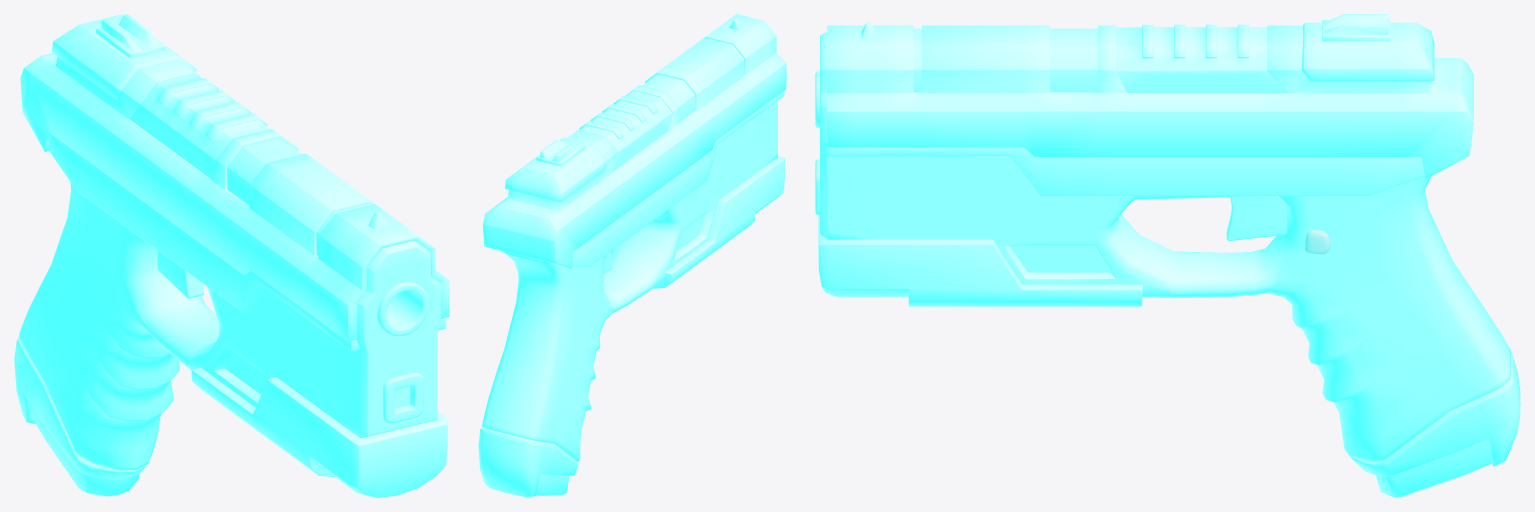
File: scifipistol02-1.glb
The picture shows the model from 3 angles, left to right: view 1: azimuth 30°, elevation 25°; view 2: azimuth 150°, elevation 25°; view 3: azimuth 270°, elevation 25°; orthographic projection. The views are drawn at different scales.
Parts seen in each view (by area): view 1: SciFiPistol02_1; view 2: SciFiPistol02_1; view 3: SciFiPistol02_1.
Boxes of the visible parts, box(x1,y1,x2,y2) form: SciFiPistol02_1: box(14, 14, 449, 497); SciFiPistol02_1: box(478, 14, 786, 497); SciFiPistol02_1: box(815, 14, 1520, 497).
Bounding box in the file's own units: 0.0417 × 0.1866 × 0.2535.
